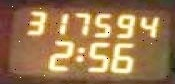1: (55, 10, 70, 34)
2: (44, 37, 73, 70)
3: (23, 8, 46, 35)
4: (136, 14, 160, 38)
5: (86, 39, 108, 73), (91, 11, 111, 36)
6: (110, 40, 135, 73)
7: (73, 9, 89, 35)
9: (113, 12, 134, 38)
X: (73, 44, 84, 61)
